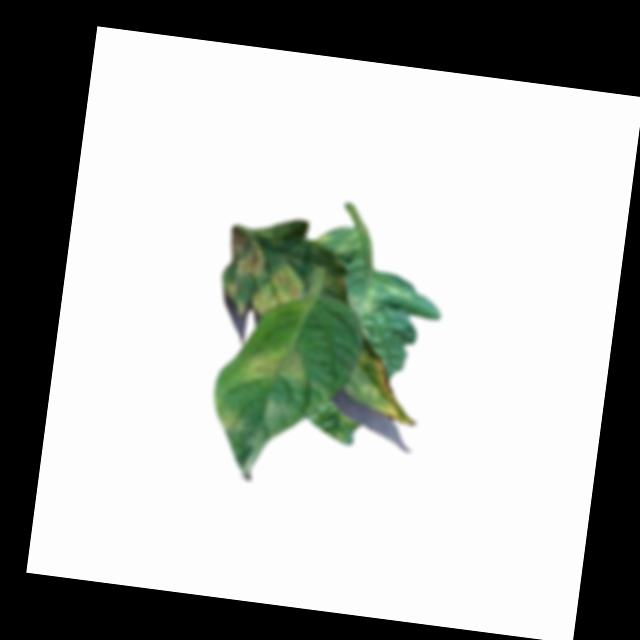Leaf_Mold: (220, 225, 313, 321), (347, 348, 427, 429), (337, 282, 386, 345), (249, 341, 309, 389)
